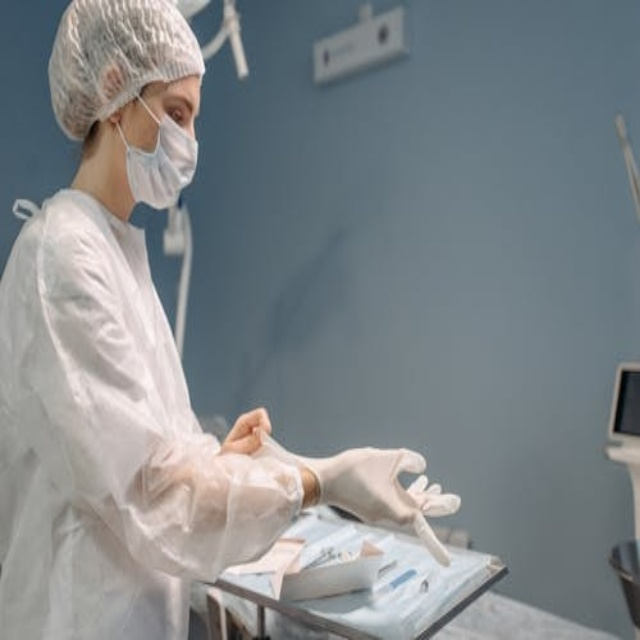Guantes: (312, 433, 462, 565)
Mascara: (116, 92, 198, 210)
Sin_gafas: (152, 79, 204, 132)
Sin_guantes: (209, 393, 275, 464)
